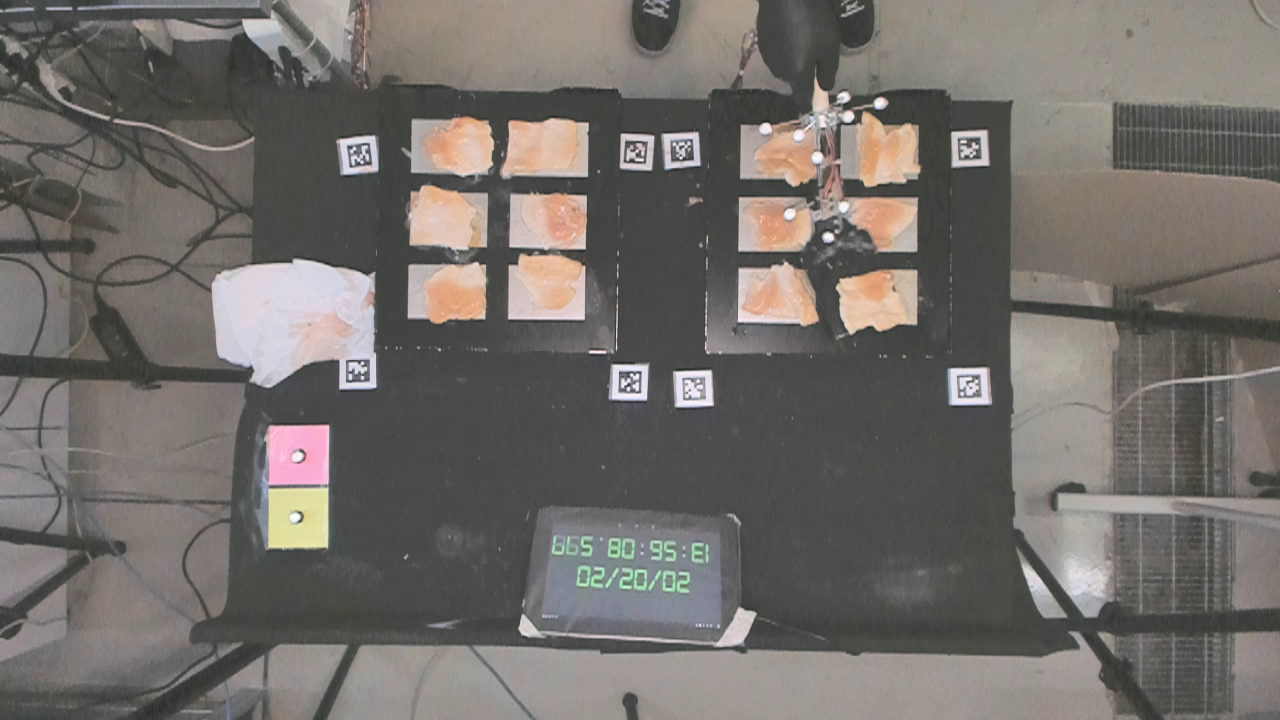chicken: (855, 109, 924, 189), (741, 263, 820, 324), (420, 109, 497, 171), (408, 186, 477, 249), (836, 270, 908, 329), (419, 263, 487, 322), (846, 196, 917, 250), (746, 194, 813, 250), (505, 123, 579, 172), (518, 254, 581, 310), (753, 128, 816, 183), (522, 193, 588, 245)
marker: (268, 426, 331, 486)
